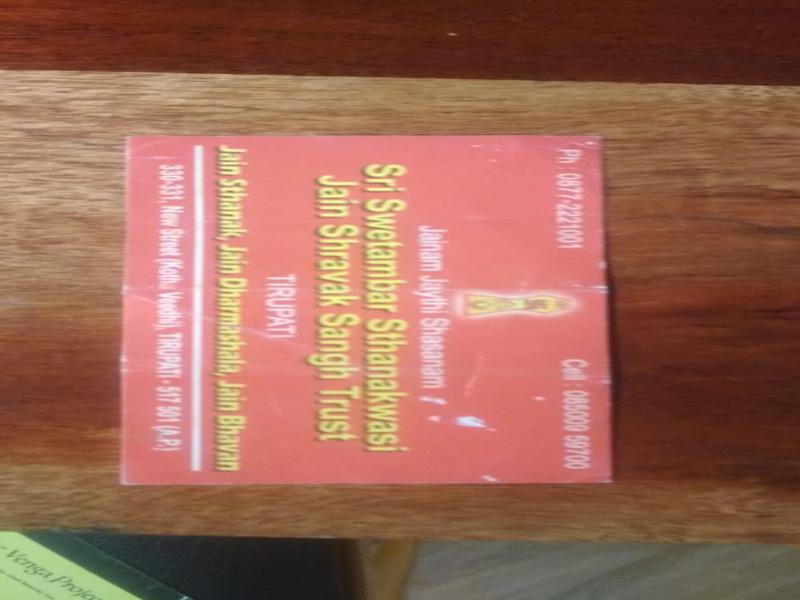card: (118, 132, 608, 484)
